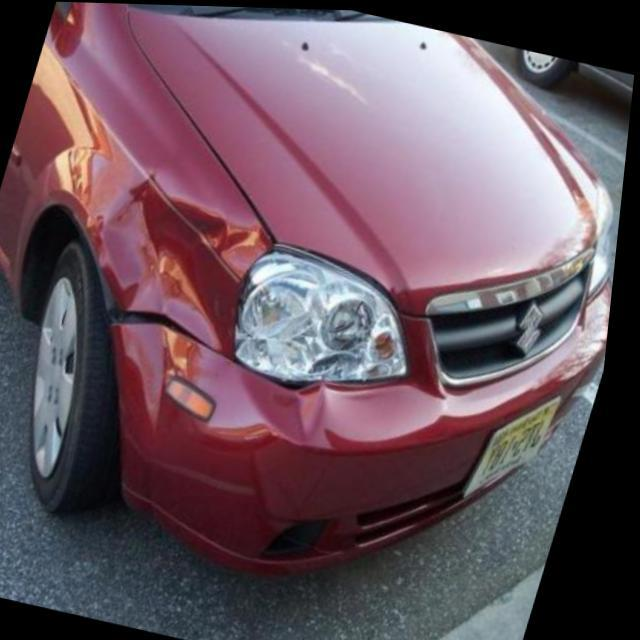dent: (100, 166, 335, 439), (329, 376, 449, 446)
